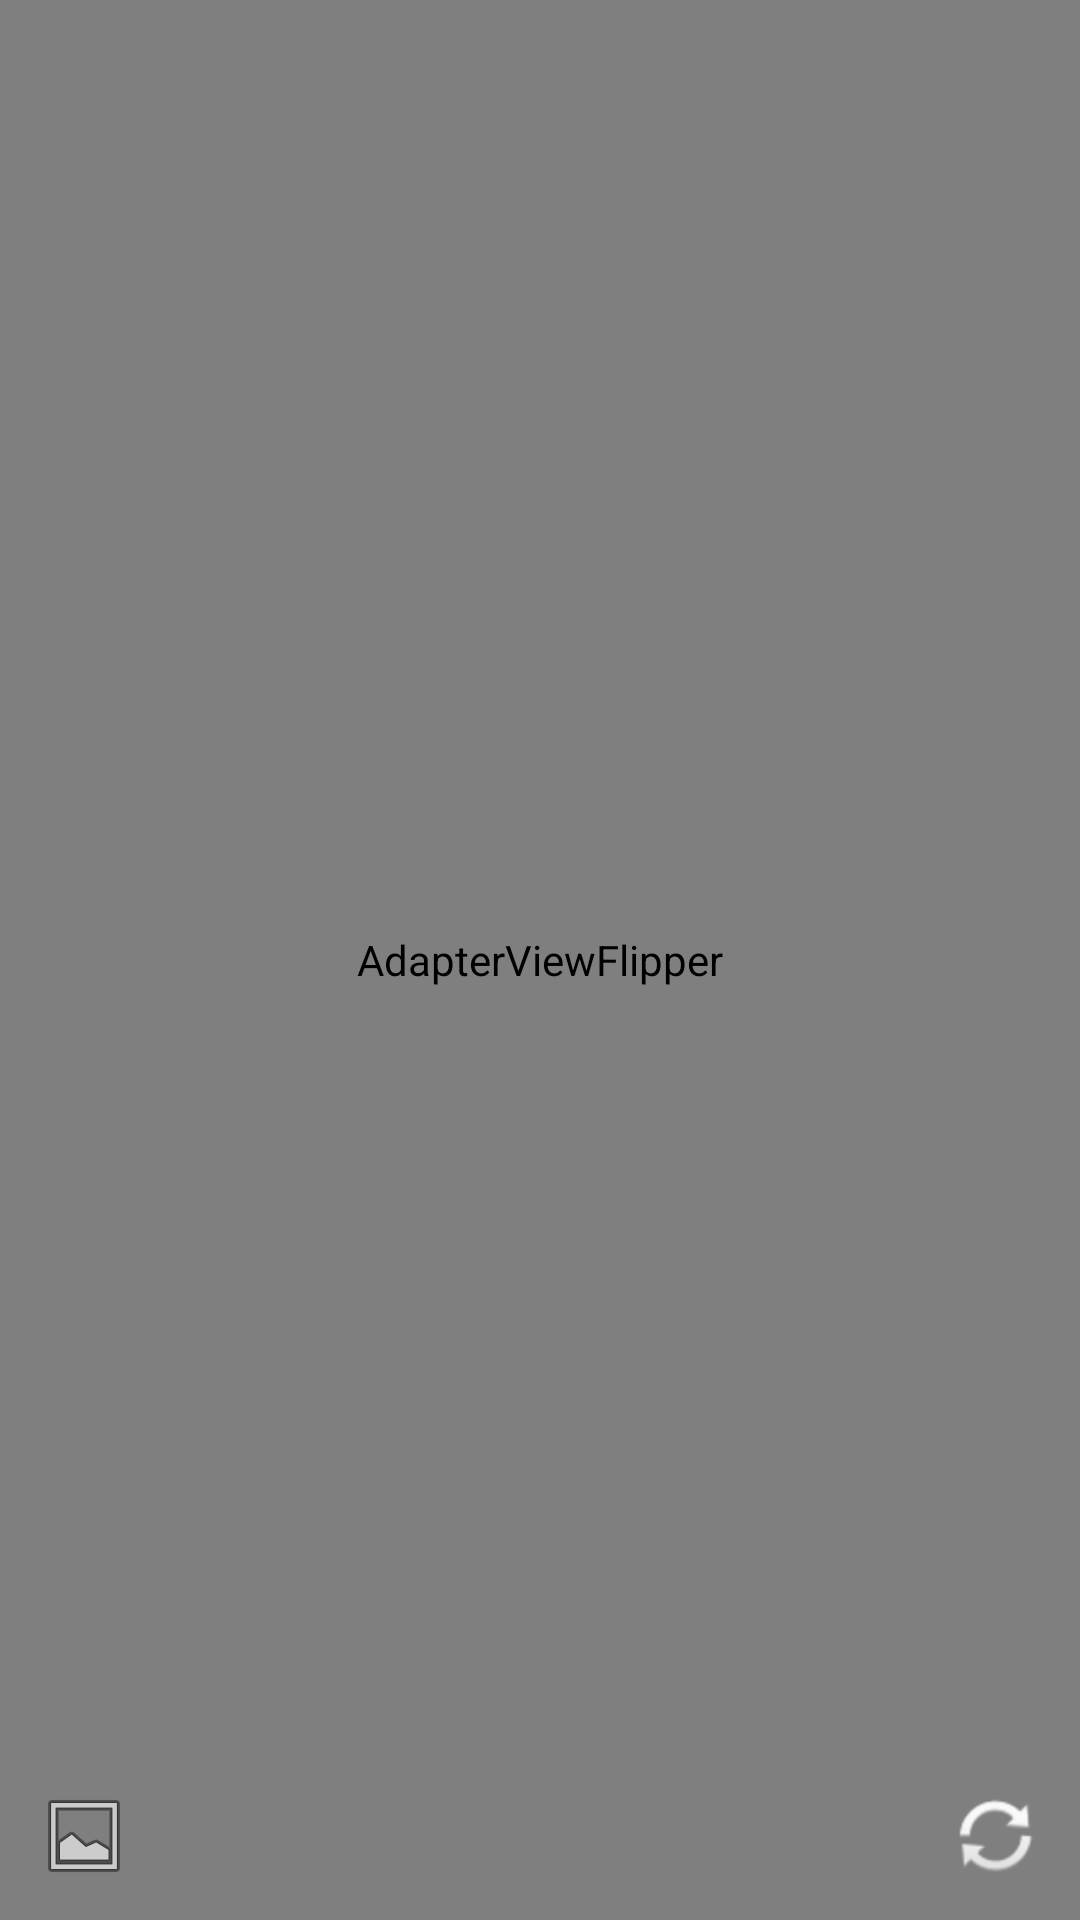

Icons on this 1080 x 1920 Android screen, each with the point to tap as (x,y):
Ανανέωση φωτογραφιών: (996,1835)
